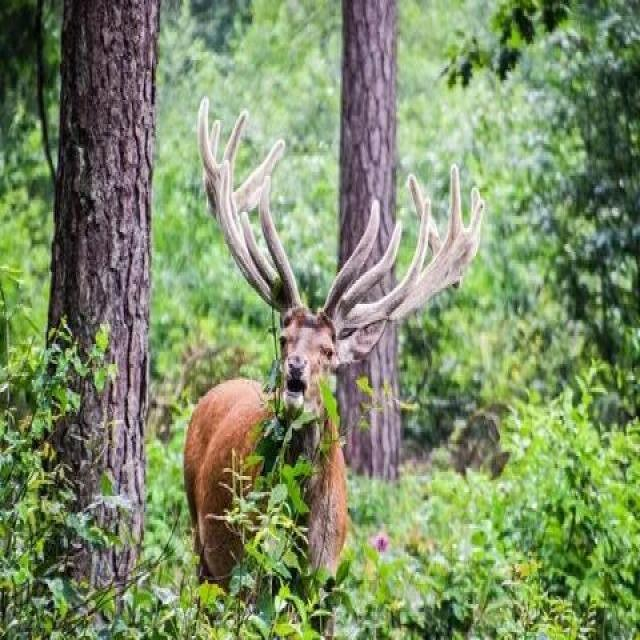deer: (118, 101, 420, 564)
